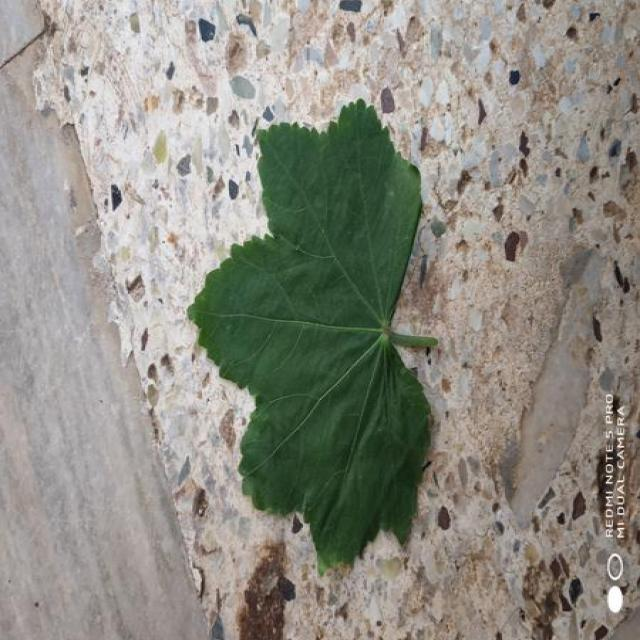kasamburga: (188, 100, 437, 572)
